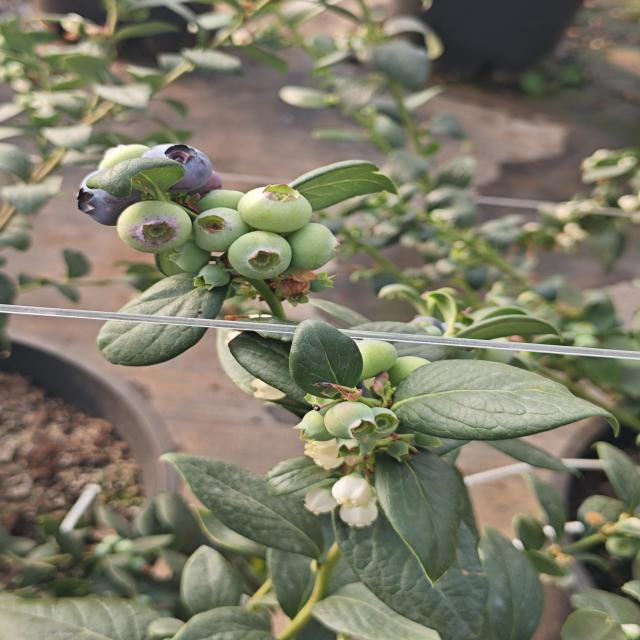ripe: (138, 140, 218, 196), (71, 164, 138, 229)
